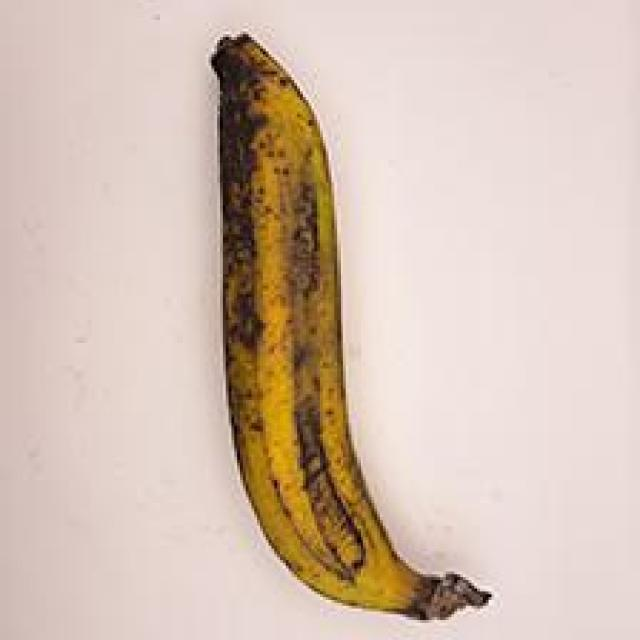Overripe: (143, 16, 515, 638)
